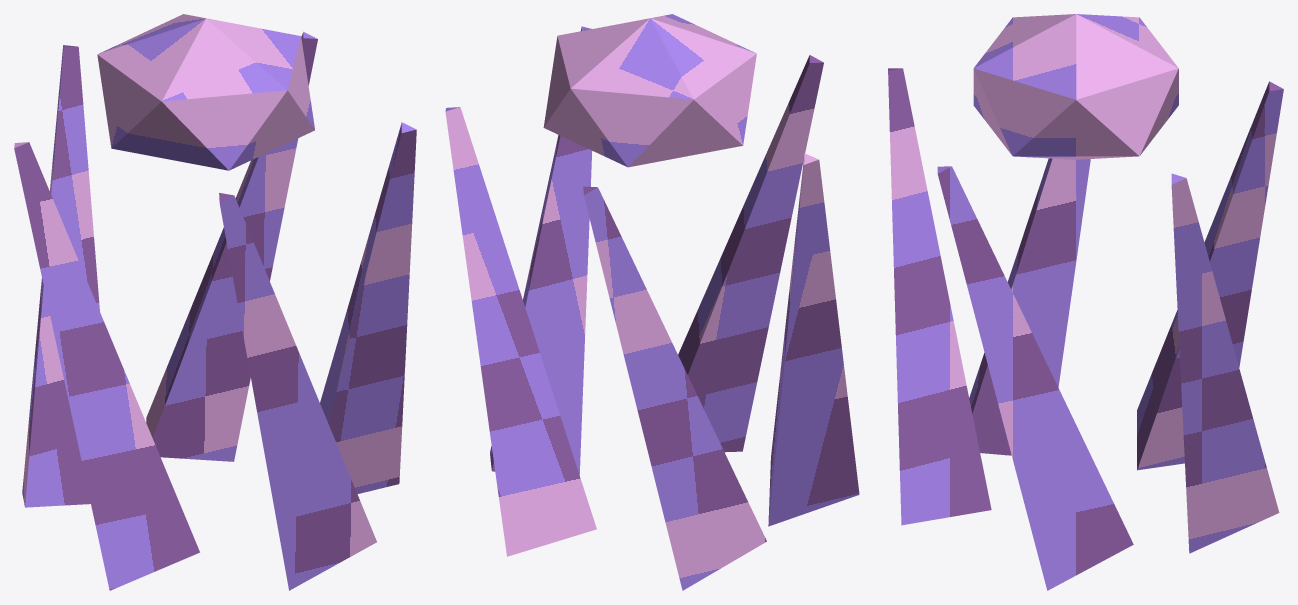
The model's file is r10_lotus.glb.
The picture shows the model from 3 angles, left to right: view 1: azimuth 30°, elevation 25°; view 2: azimuth 150°, elevation 25°; view 3: azimuth 270°, elevation 25°; orthographic projection. The views are drawn at different scales.
Parts seen in each view (by area): view 1: r10_lotus; view 2: r10_lotus; view 3: r10_lotus.
Part boxes in pixels (left/top/right/bottom): r10_lotus: left=14, top=14, right=416, bottom=590; r10_lotus: left=445, top=14, right=859, bottom=590; r10_lotus: left=888, top=14, right=1283, bottom=590.
Bounding box in the file's own units: 0.4083 × 0.5473 × 0.3937.
2 materials, 2 textured.
